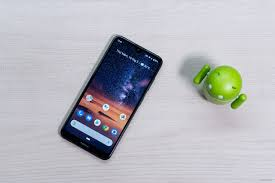nokia: (56, 35, 166, 162)
